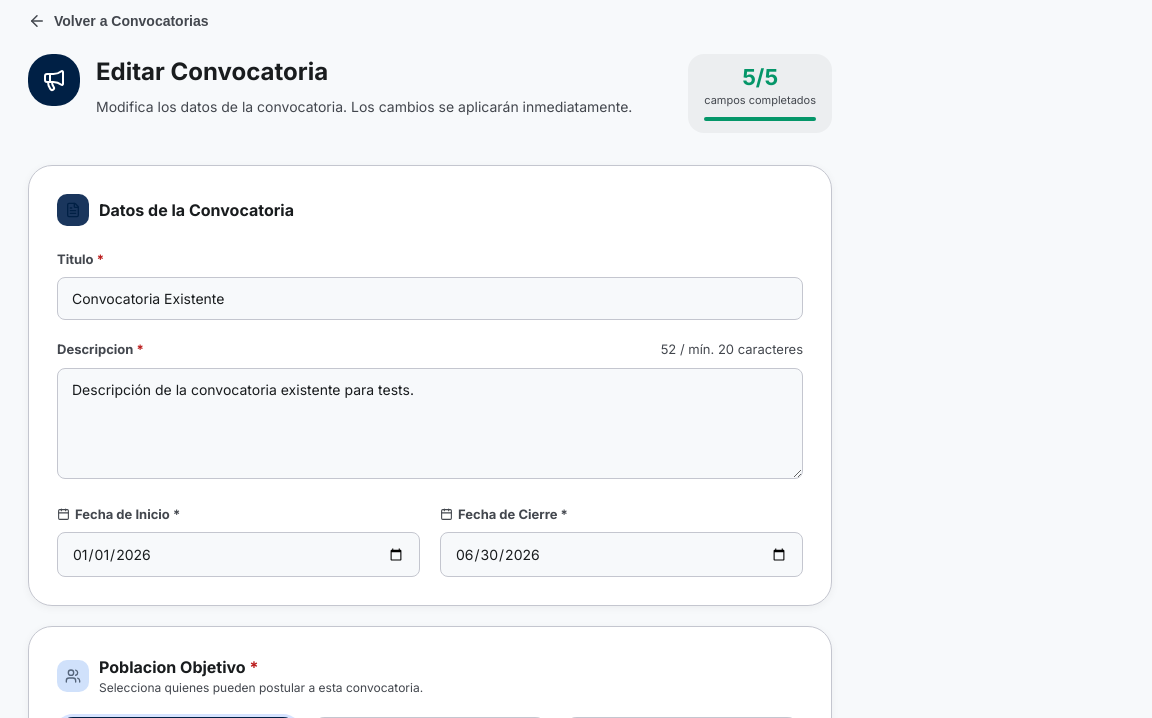
EditConvocatoria › validates title minimum length on blur
Replace the text in the field showing "Convocatoria Existente" with "AB" at [430, 298], box [57,277,803,320]
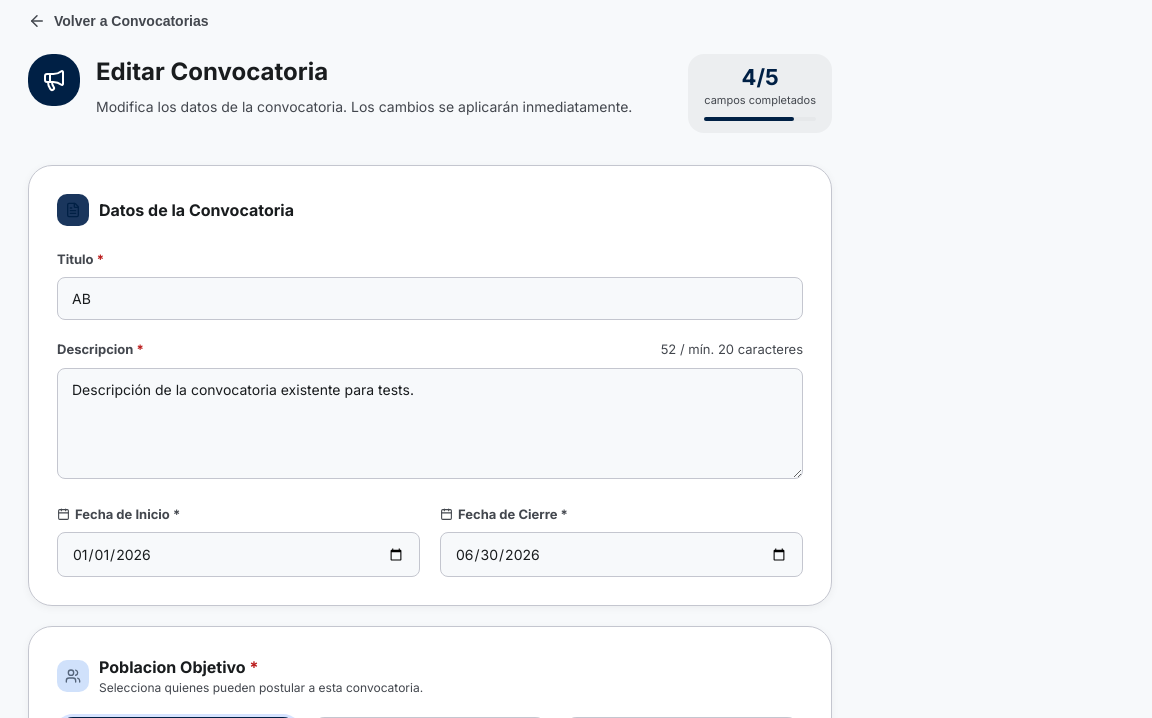
Leave the field showing "Convocatoria Existente", box [57,277,803,320]
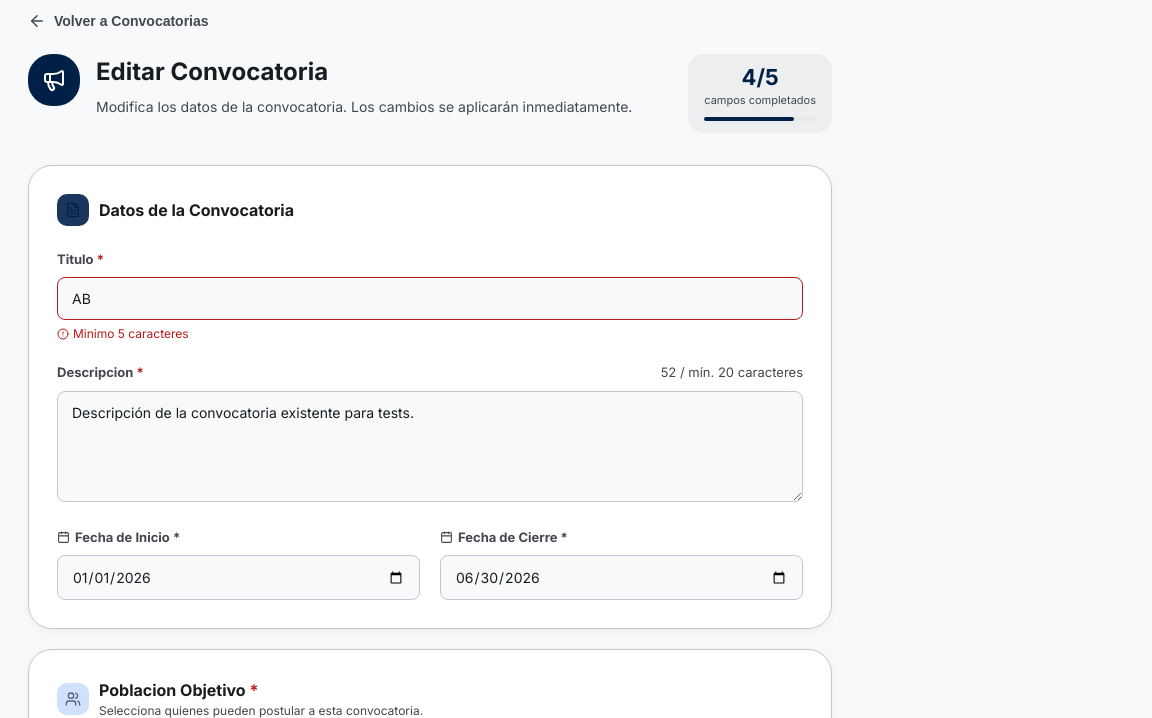
Expected: the text "Minimo 5 caracteres" is shown, [57,326,189,341]
